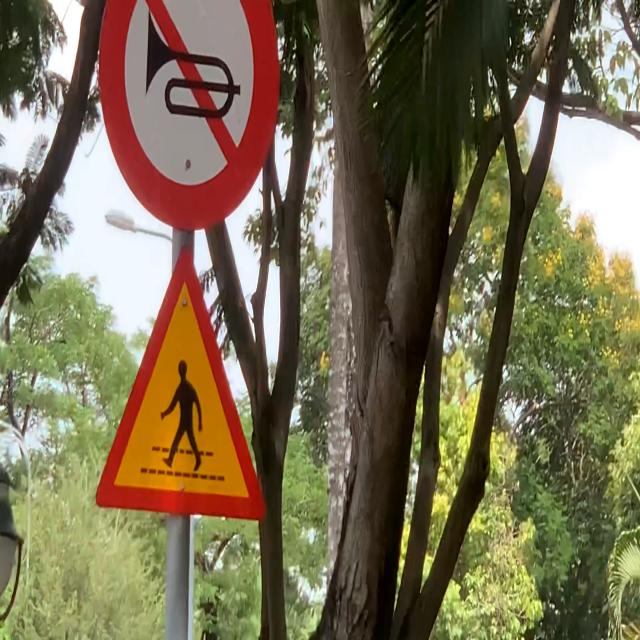P.128: (96, 0, 281, 233)
W.224: (90, 239, 270, 525)
